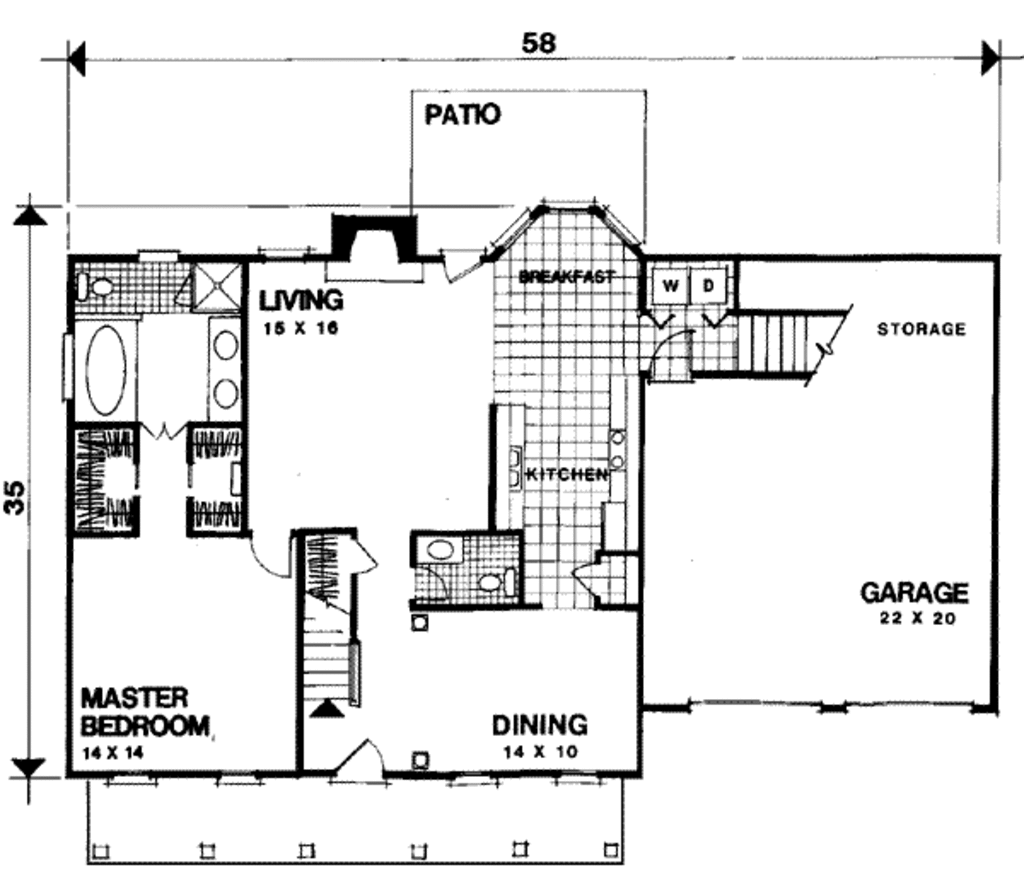door: (332, 738, 388, 782), (433, 249, 484, 287), (349, 535, 379, 583)
large_sink: (471, 568, 519, 600)
small_sink: (203, 309, 245, 428), (417, 536, 466, 568)
stairs: (740, 305, 850, 395)
tub: (76, 312, 134, 427)
windows: (530, 198, 610, 218)
